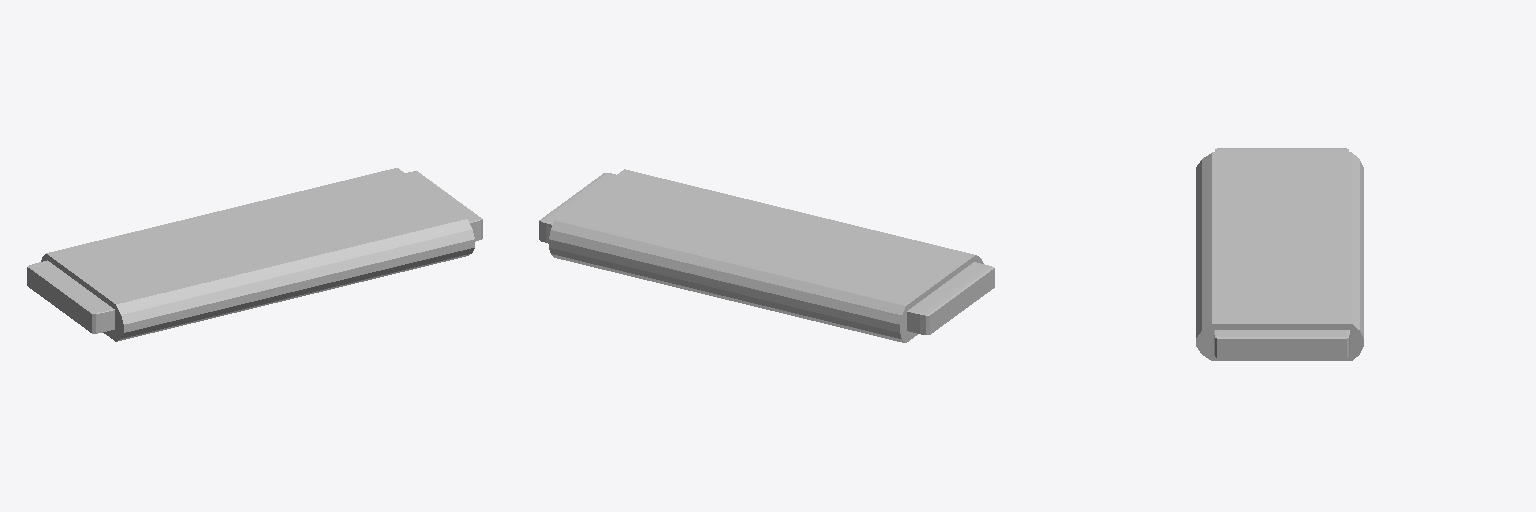
Rendered from fabricfolded.obj.
3 renders of one model, left to right at view 1: azimuth 30°, elevation 25°; view 2: azimuth 150°, elevation 25°; view 3: azimuth 270°, elevation 25°, orthographic.
Parts seen in each view (by area): view 1: Cube.001, Cube; view 2: Cube.001, Cube; view 3: Cube.001, Cube.
Boxes of the visible parts, <box> form: Cube.001: <box>41,168,474,341</box>; Cube: <box>27,171,482,333</box>; Cube.001: <box>549,169,983,342</box>; Cube: <box>539,173,994,334</box>; Cube.001: <box>1196,152,1363,360</box>; Cube: <box>1214,148,1349,357</box>.
Bounding box in the file's own units: 2 × 0.1827 × 0.7414.